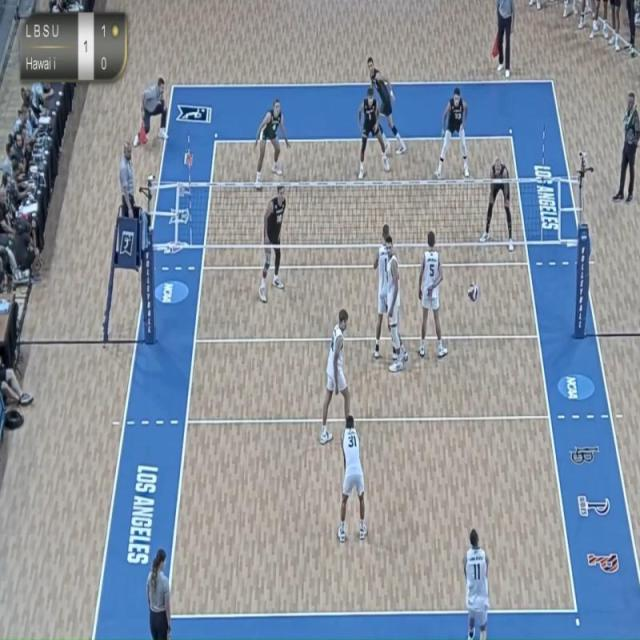volleyball: (466, 279, 480, 305)
